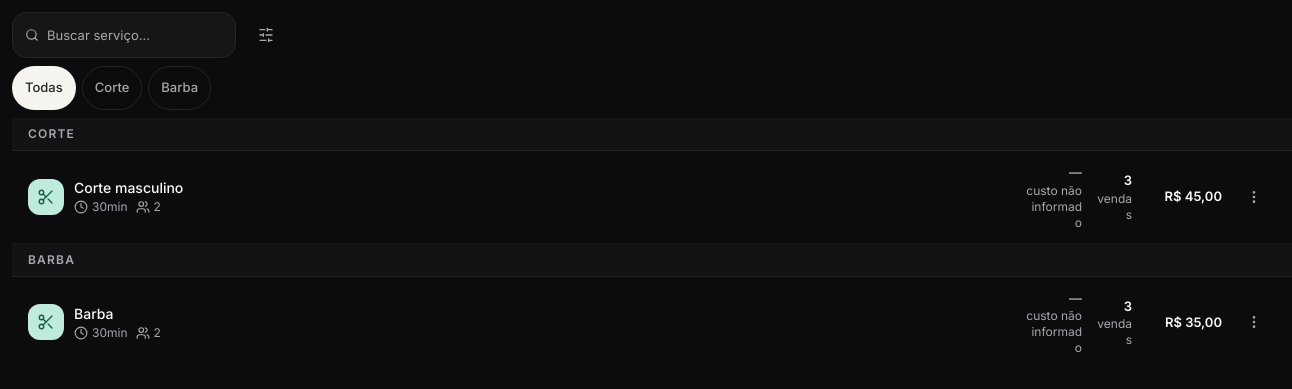
Test: ServicesCatalog: tocar na linha abre a edição › abrir o menu ⋮ não abre a edição
The width and height of the screenshot is (1292, 389).
Click the button named "Mais opções para Corte masculino" at coordinates (1254, 197), box top-left (1232, 175), bottom-right (1276, 219)
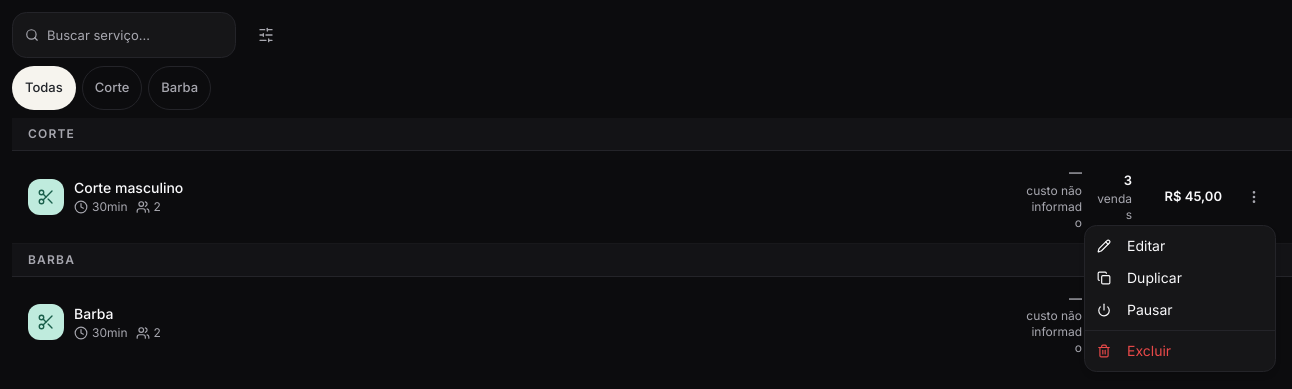
Expected: the menu item "Duplicar" is shown, top-left (1097, 269), bottom-right (1182, 286)
